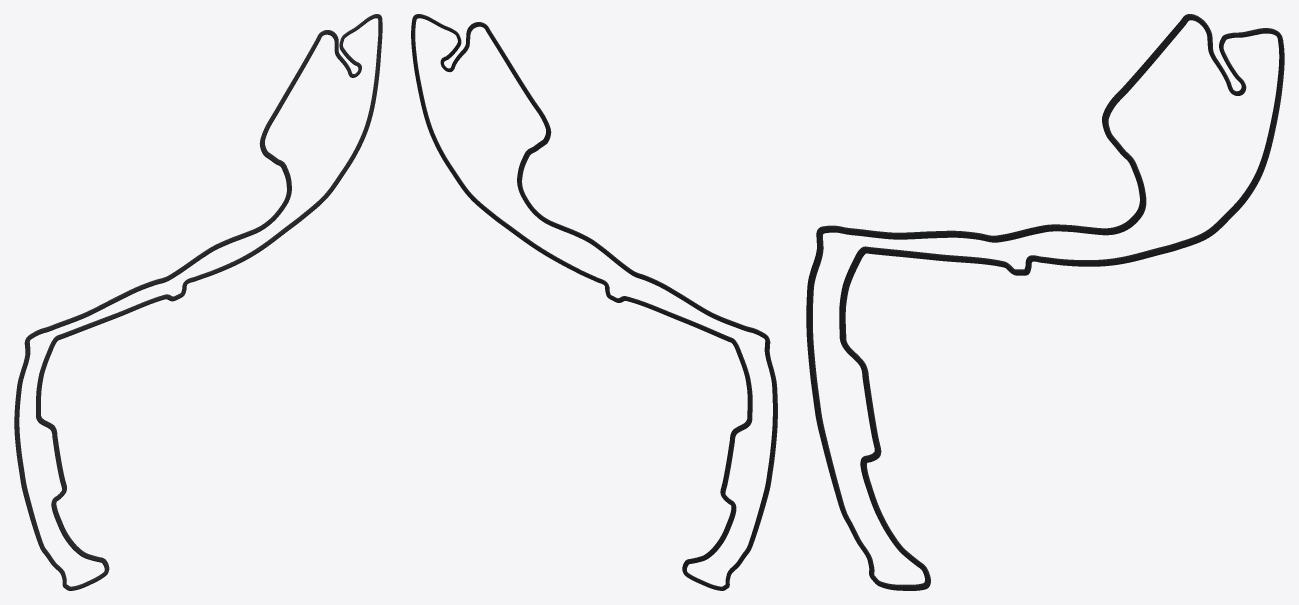
File: road_textured.obj
3 views of the same model, side by side, from view 1: azimuth 30°, elevation 25°; view 2: azimuth 150°, elevation 25°; view 3: azimuth 330°, elevation 25° (orthographic). The views are drawn at different scales.
Visible parts, largest first — view 1: URRC; view 2: URRC; view 3: URRC.
Part boxes in pixels (box(x1,y1,x2,y2)): URRC: box(14, 14, 382, 590); URRC: box(411, 14, 777, 590); URRC: box(806, 14, 1284, 590).
Bounding box in the file's own units: 149 × 196 × 8.49.
1 material, 1 textured.
